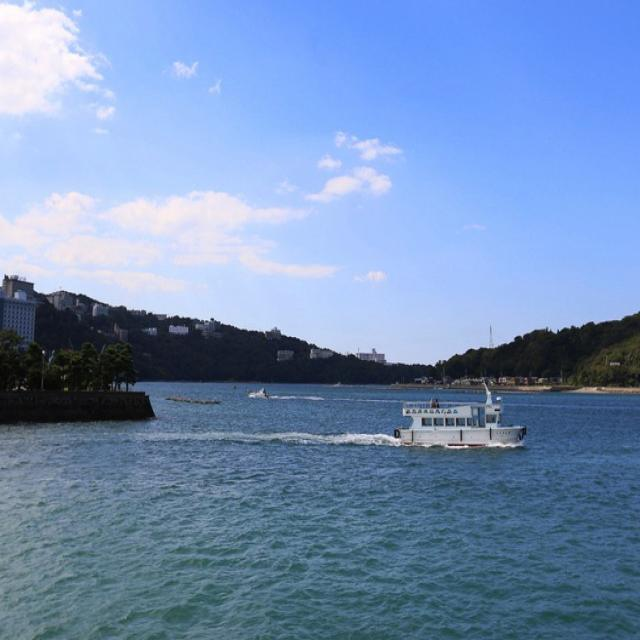houseboat: (384, 388, 533, 450)
